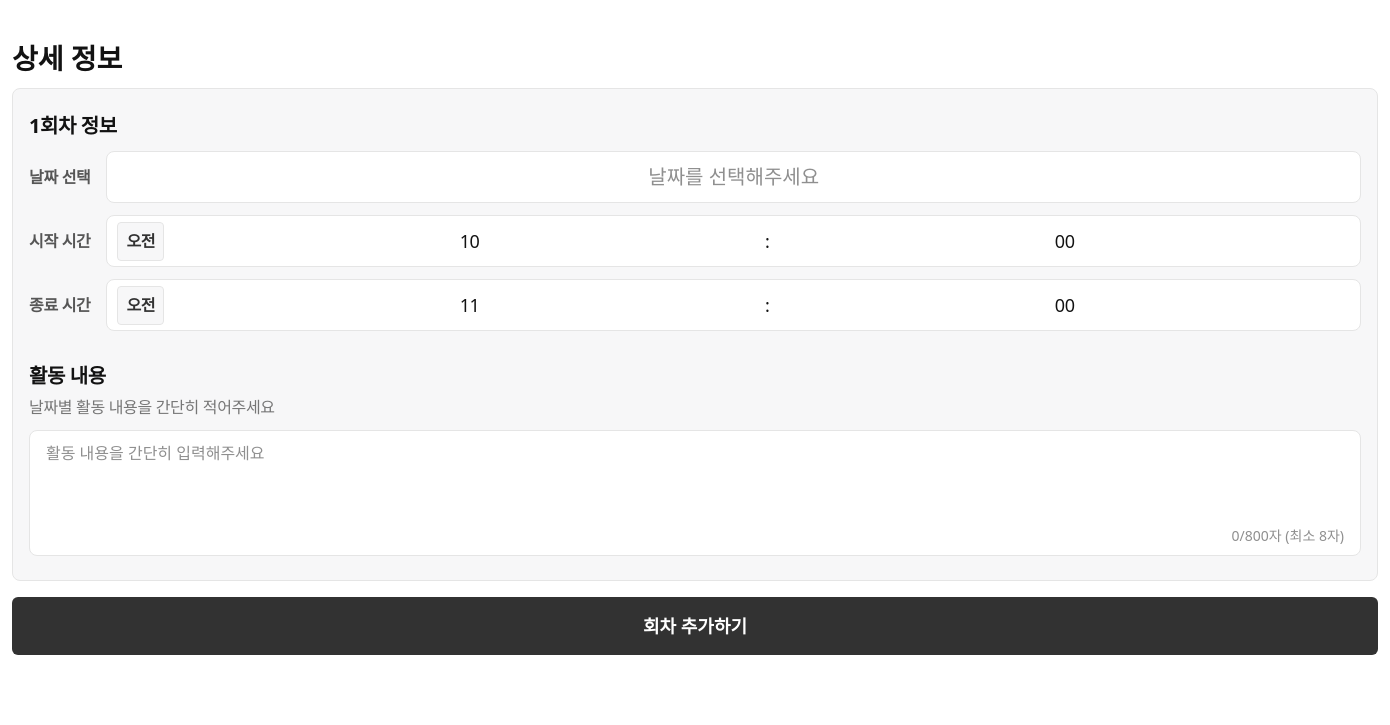
Test: DetailInfo 통합 테스트 › 세션 추가 › 세션이 추가되면 화면에 새로운 회차 정보가 표시되어야 한다
Click the button with aria-label "회차 추가하기 버튼".
click(695, 626)  # box [12,597,1378,655]
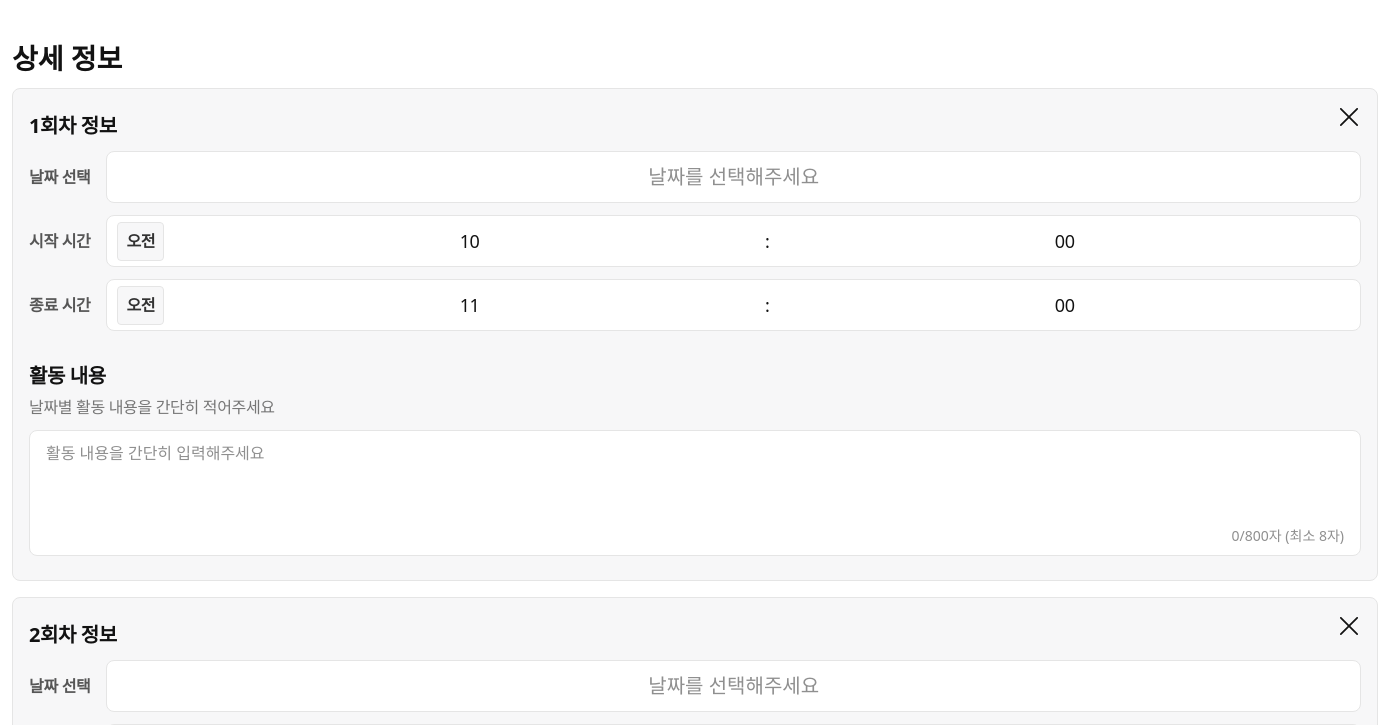
Expected: the number of headings "1회차 정보" is 2, [29,112,117,139]; [29,621,117,648]
